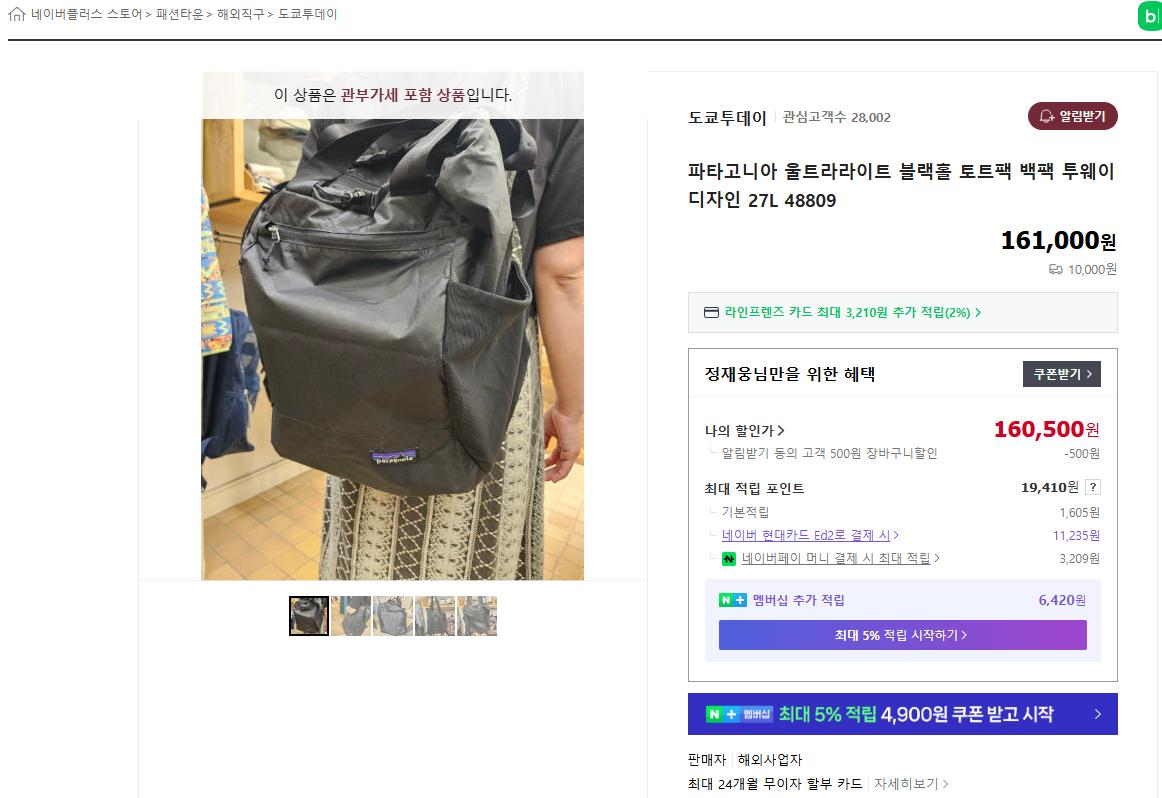button: (688, 689, 1120, 732), (722, 619, 1092, 648), (703, 303, 988, 322), (1023, 102, 1119, 134), (728, 530, 902, 546), (732, 550, 941, 563), (1024, 361, 1107, 389), (287, 596, 327, 636), (372, 596, 411, 637), (331, 593, 370, 633), (462, 597, 500, 633), (418, 599, 452, 634), (1084, 481, 1106, 496)
